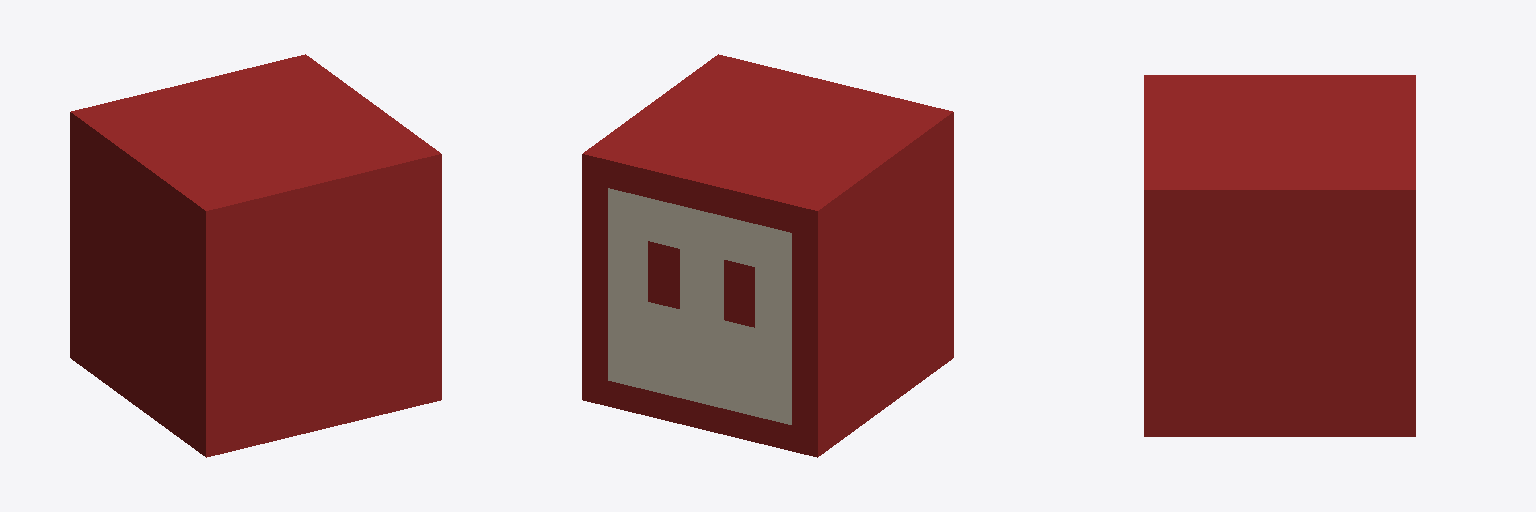
The picture shows the model from 3 angles: view 1: azimuth 30°, elevation 25°; view 2: azimuth 150°, elevation 25°; view 3: azimuth 270°, elevation 25°; orthographic projection.
Visible parts, largest first — view 1: Cube; view 2: Cube; view 3: Cube.
Part boxes in pixels (bbox=[...]): Cube: bbox=[70, 54, 441, 457]; Cube: bbox=[582, 54, 953, 457]; Cube: bbox=[1144, 75, 1415, 436].
Bounding box in the file's own units: 2 × 2 × 2.
1 materials, 1 textured.